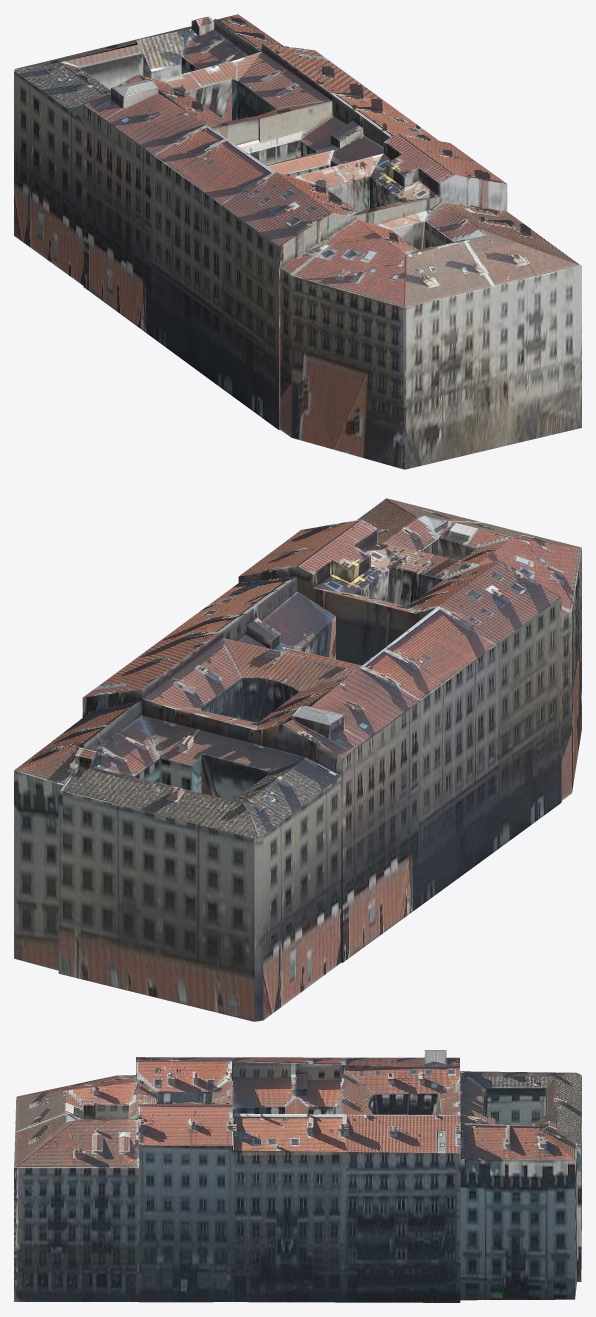
File: LYON_1ER_00038.dae
3 renders of one model, top to bottom at view 1: azimuth 30°, elevation 25°; view 2: azimuth 150°, elevation 25°; view 3: azimuth 270°, elevation 25°, orthographic. The views are drawn at different scales.
Size of the model in its own units: 37.58 by 96.05 by 32.63.
1 material, 1 textured.
